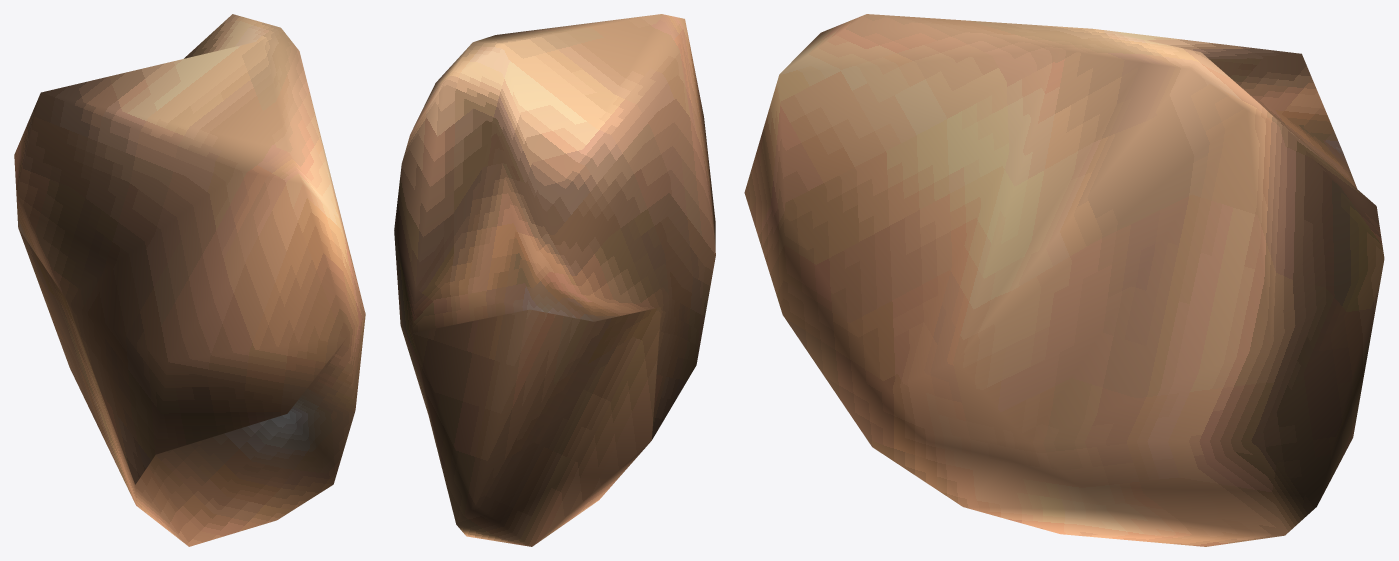
Rendered from THROWINGSTONE.fbx.
3 views of the same model, side by side, from view 1: azimuth 30°, elevation 25°; view 2: azimuth 150°, elevation 25°; view 3: azimuth 270°, elevation 25° (orthographic). The views are drawn at different scales.
Parts seen in each view (by area): view 1: THROWINGSTONE; view 2: THROWINGSTONE; view 3: THROWINGSTONE.
Part boxes in pixels (x1,y1,x2,y2): THROWINGSTONE: [14, 14, 365, 546]; THROWINGSTONE: [394, 14, 715, 546]; THROWINGSTONE: [744, 14, 1384, 546].
Size of the model in its own units: 316 by 681 by 702.
1 material, 1 textured.
